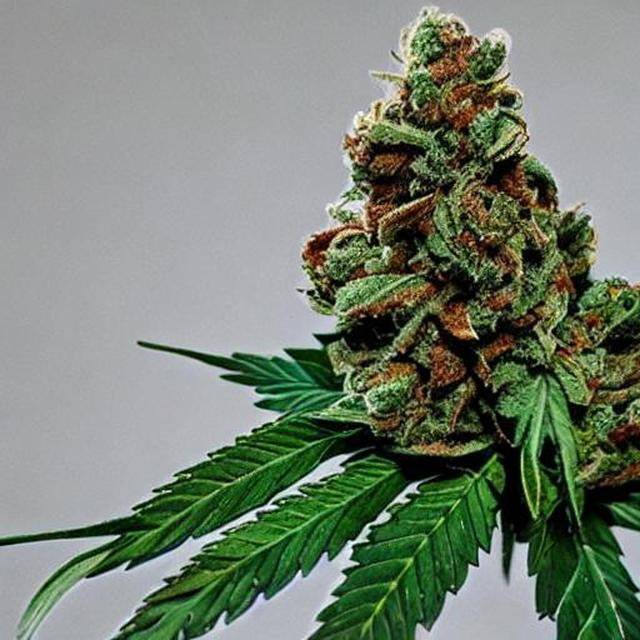Marijuana Plant: (34, 56, 603, 639)
